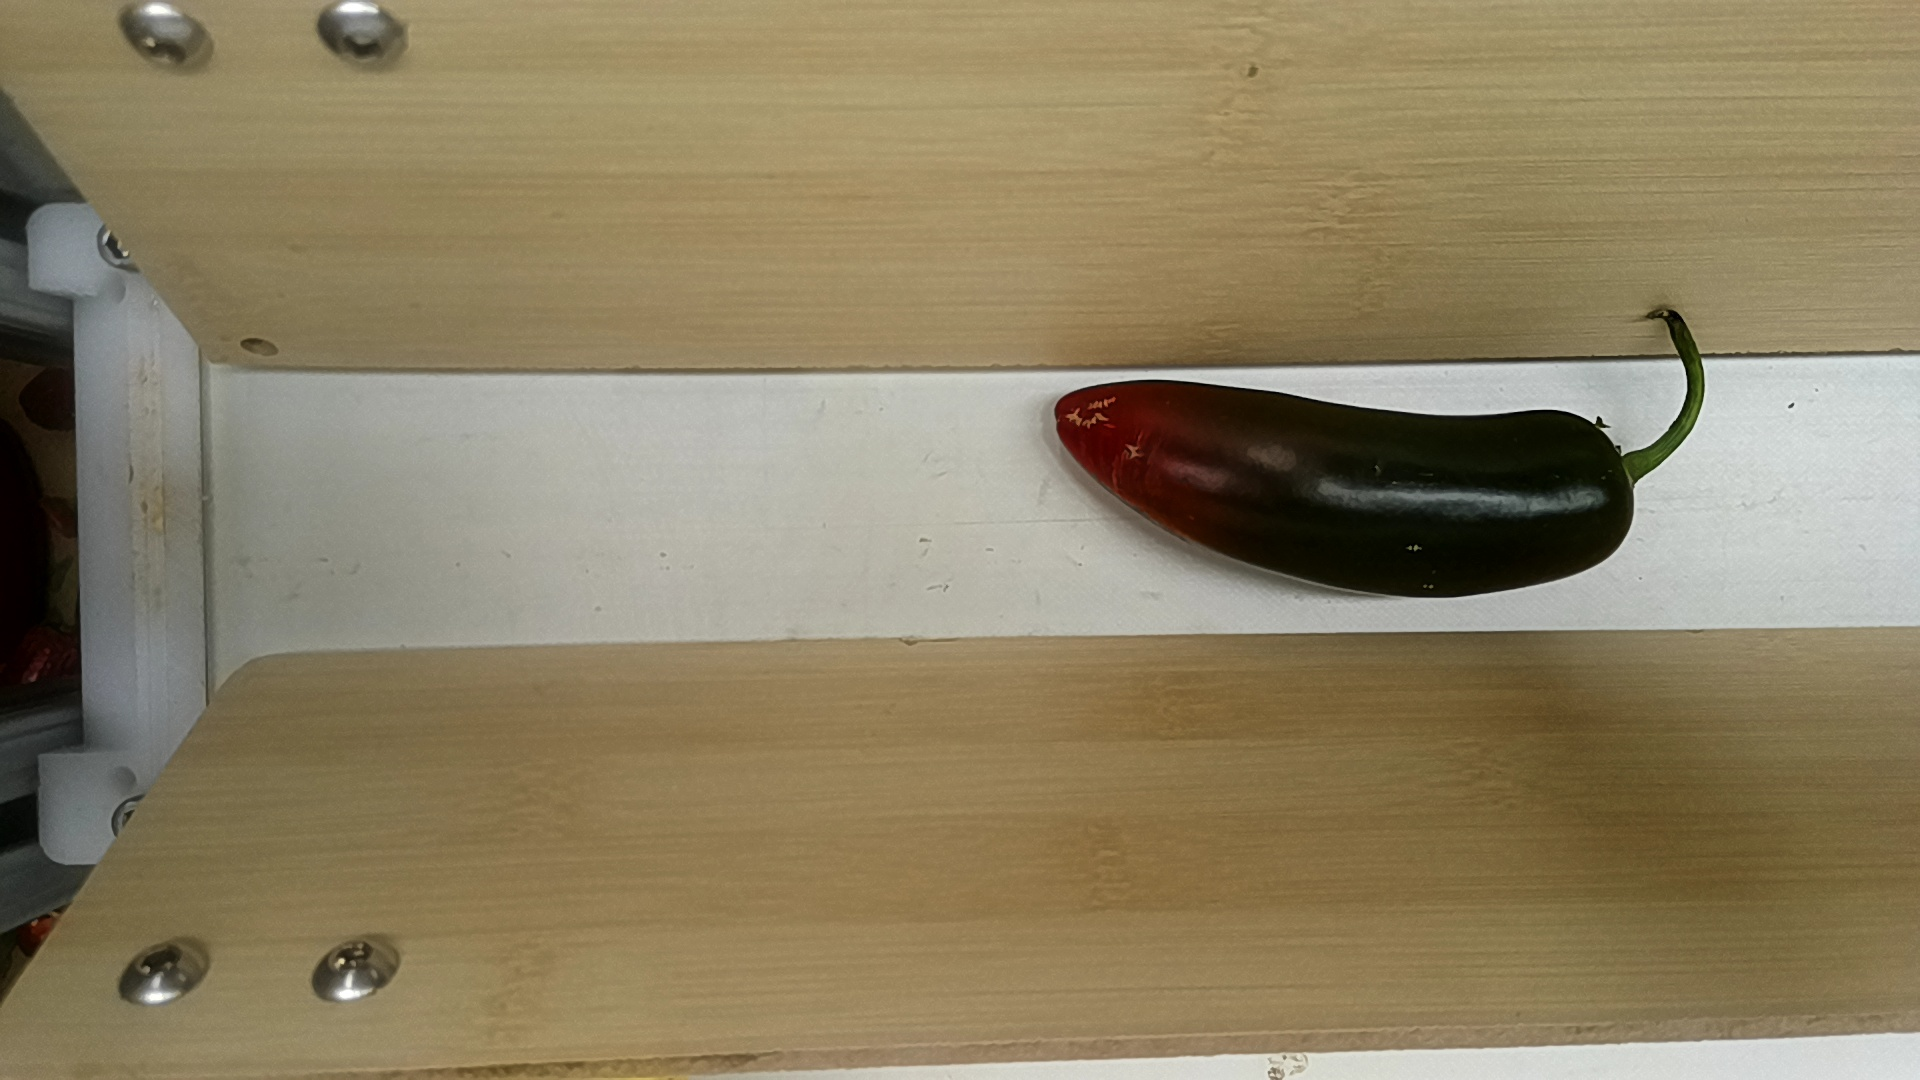Cut Point: (1557, 397, 1664, 575)
